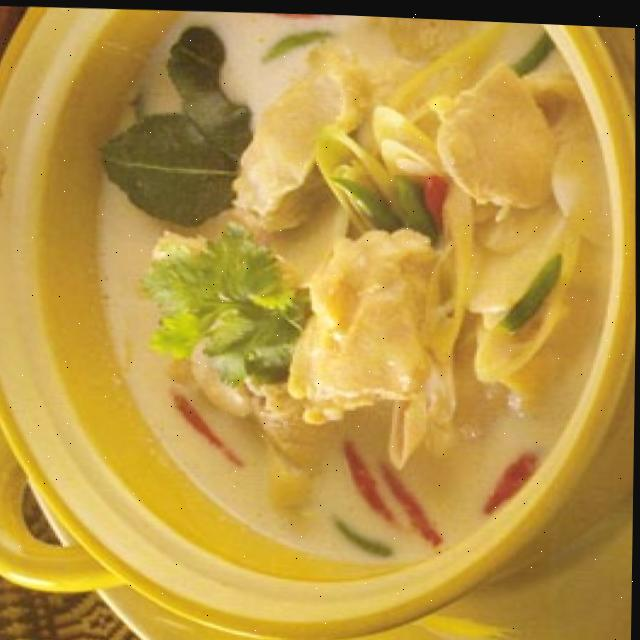汤锅炖物: (7, 0, 640, 633)
